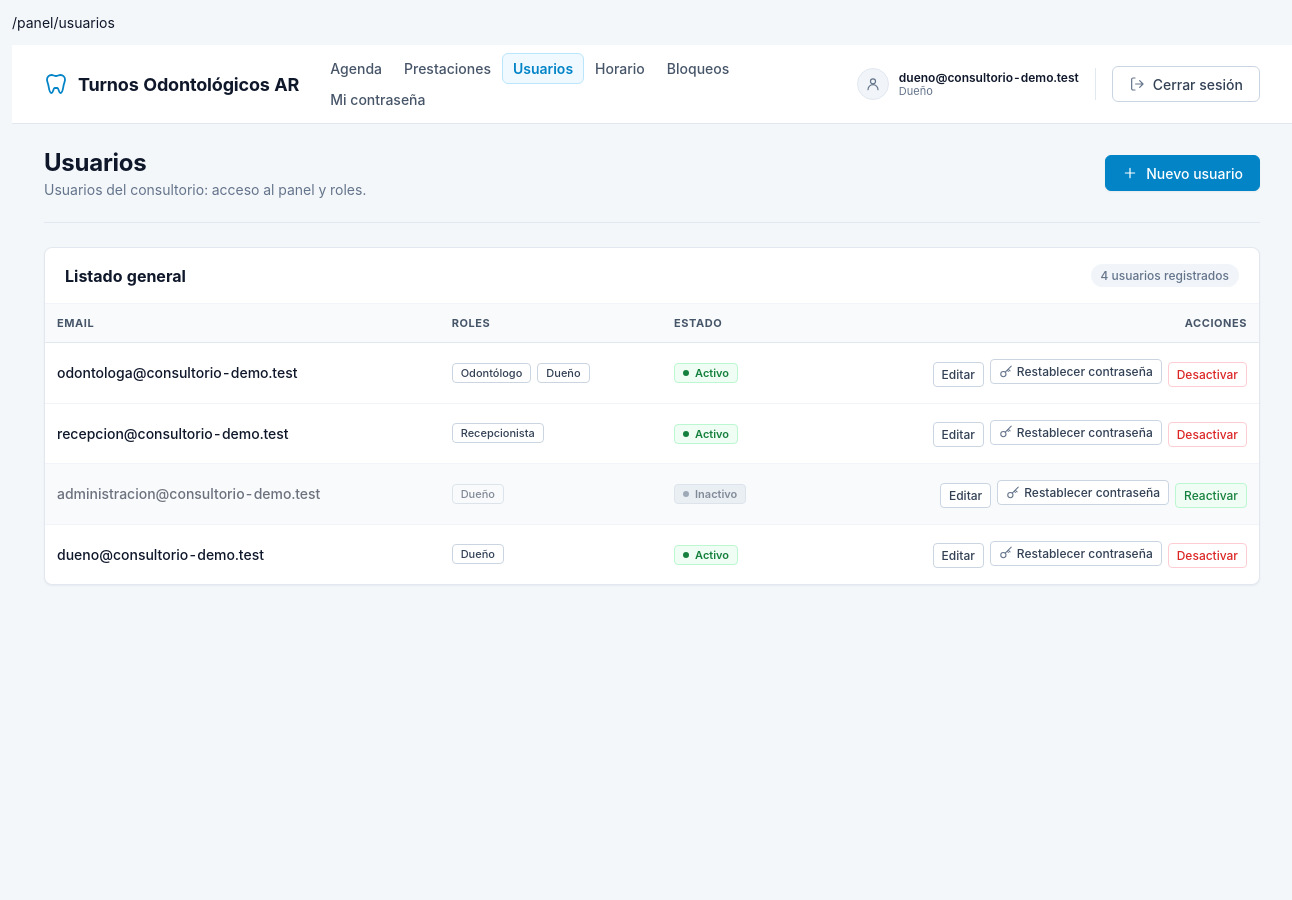
Test: Restablecer contraseña desde la fila: bordes y errores › US-093 CA-6: el dueño ve el rechazo sin perder la sesión
Expected: the table is shown, top-left (45, 304), bottom-right (1259, 584)
Click the button "Restablecer contraseña" in the row of "recepcion@consultorio-demo.test".
click(1076, 432)  # box top-left (990, 420), bottom-right (1162, 444)
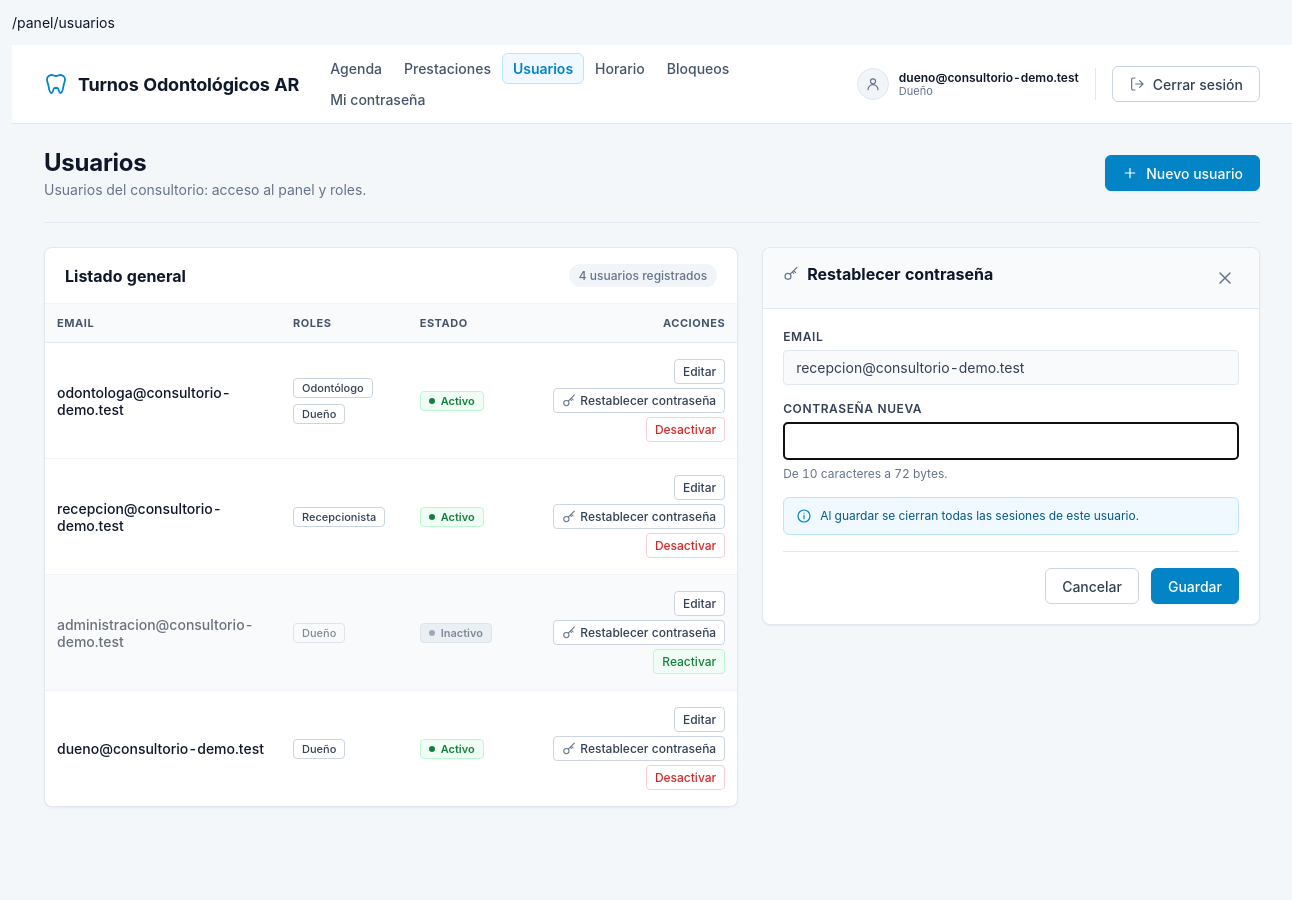
Type "clave-nueva-2026" into the password field labelled "Contraseña nueva".
click(1011, 441); type("clave-nueva-2026")  # box top-left (783, 422), bottom-right (1239, 460)
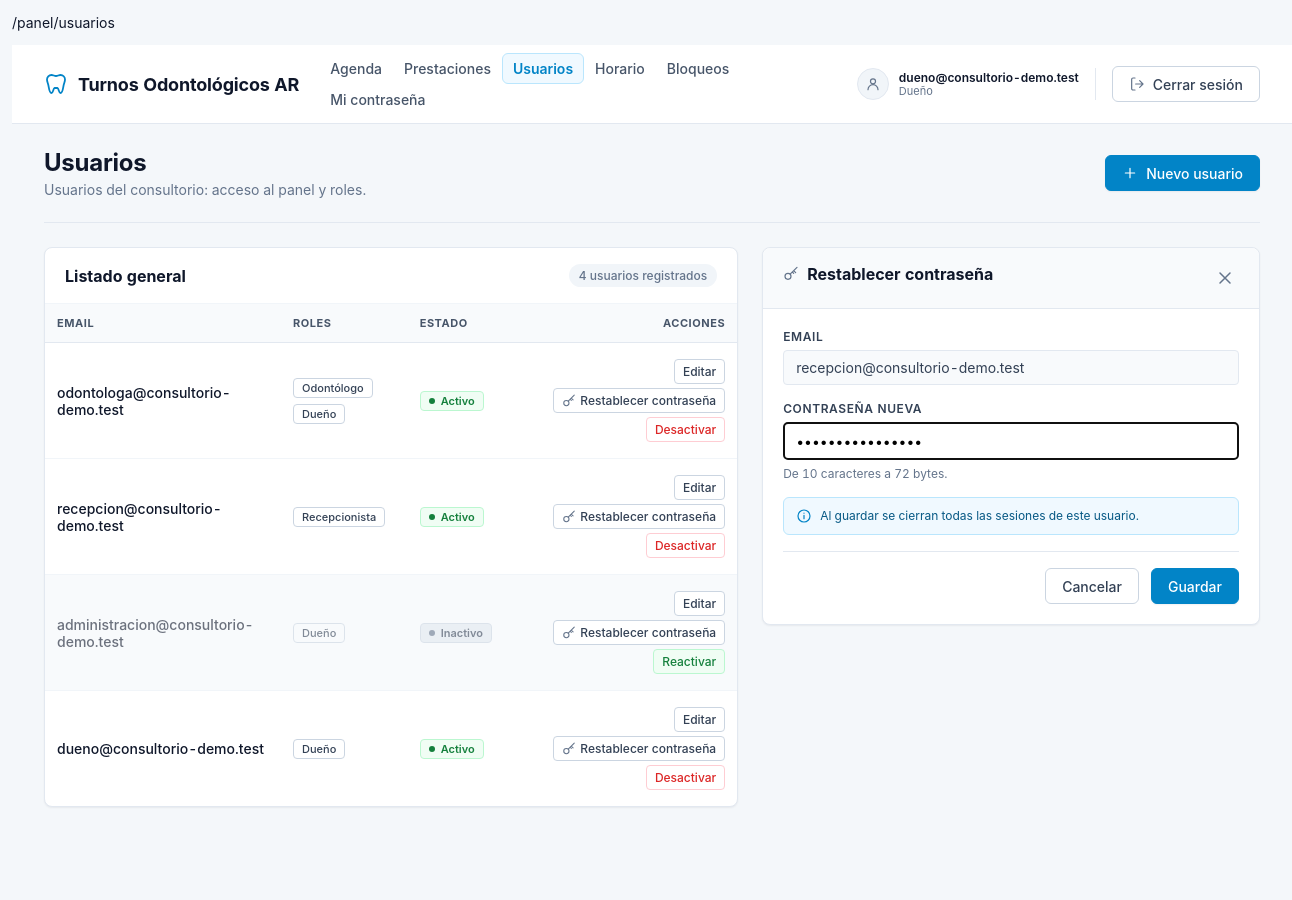
Click the button "Guardar".
click(1195, 586)  # box top-left (1151, 568), bottom-right (1239, 604)
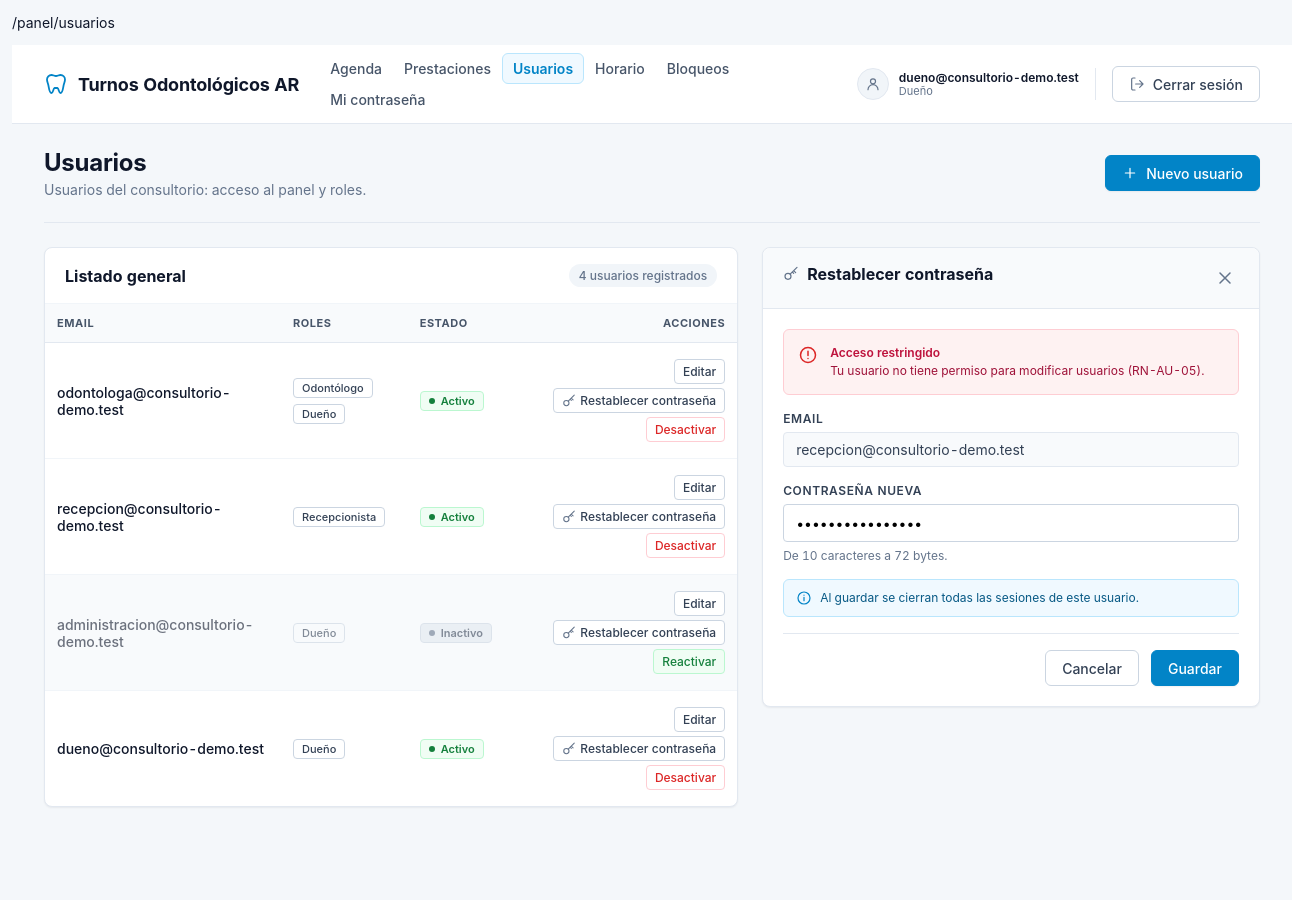
Expected: the text with test id "lugar" reads "/panel/usuarios", top-left (12, 14), bottom-right (115, 31)
Expected: the message shows "Tu usuario no tiene permiso para modificar usuarios (RN-AU-05).", top-left (830, 363), bottom-right (1204, 378)
